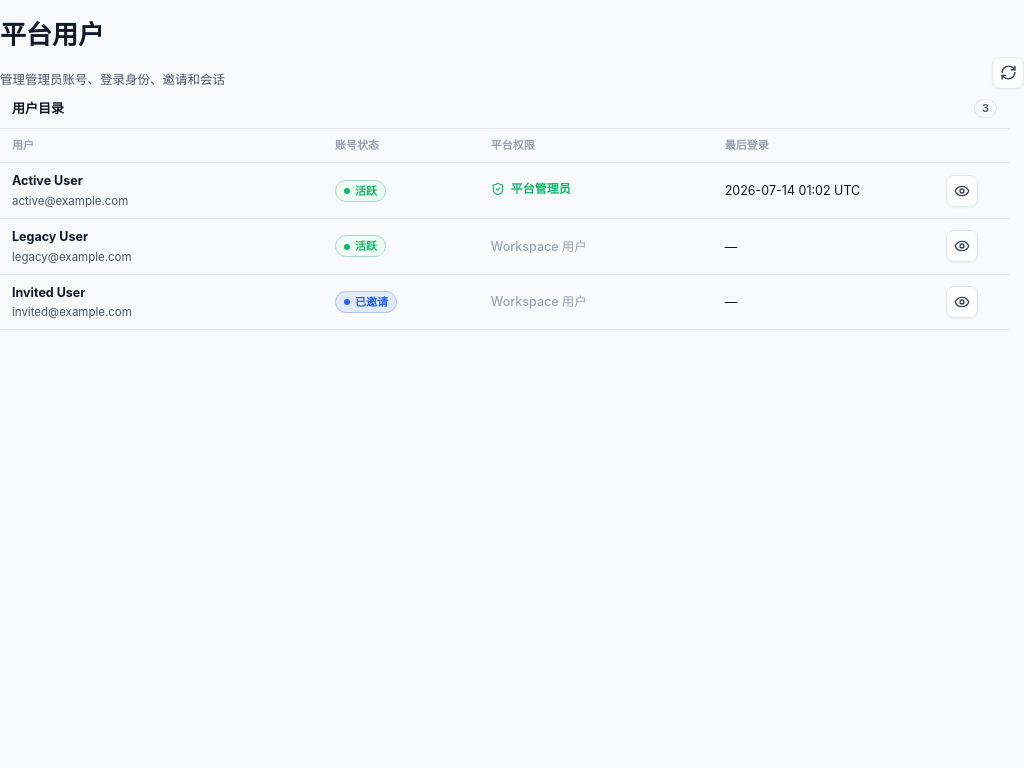
Test: AdminUsersPage › shows compact user state and platform-scoped identity and invitation detail
The width and height of the screenshot is (1024, 768).
Expected: the heading "平台用户" is shown, left=0, top=19, right=104, bottom=50
Expected: the text "Active User" is shown, left=12, top=174, right=83, bottom=188
Click the button named "查看 Legacy User": click(962, 246) left=946, top=230, right=978, bottom=262
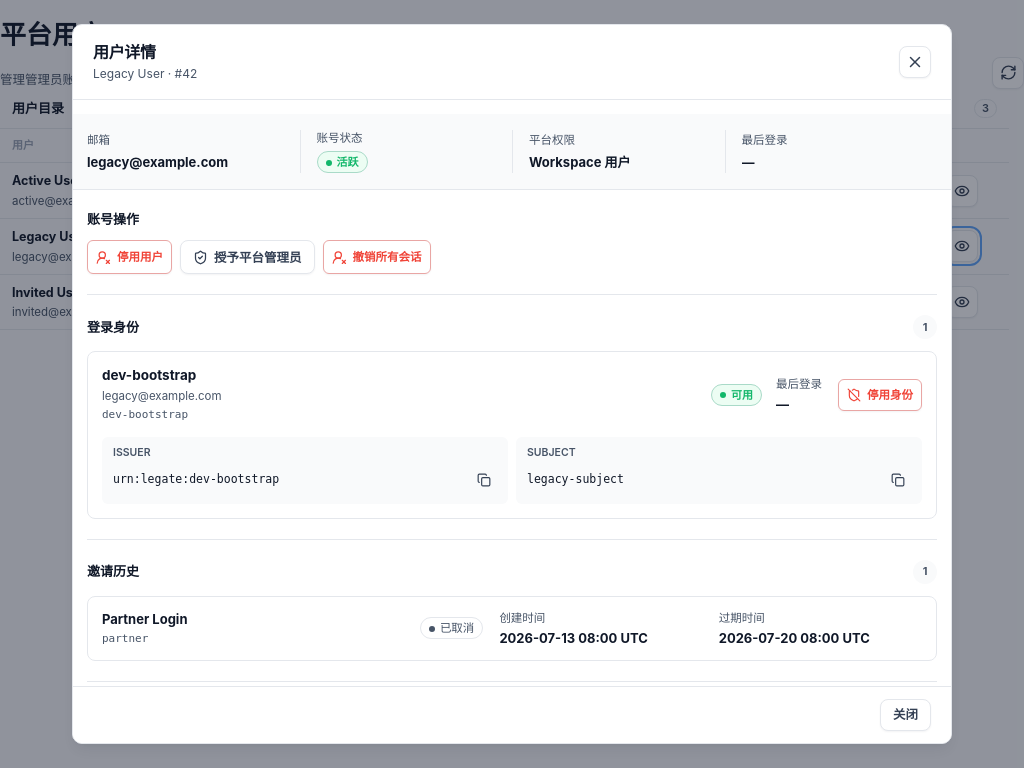
Expected: the text "dev-bootstrap" is shown 2 times, left=102, top=368, right=196, bottom=384; left=102, top=408, right=188, bottom=423
Expected: the text "legacy@example.com" is shown 2 times, left=87, top=154, right=228, bottom=170; left=102, top=389, right=222, bottom=403
Expected: the text "urn:legate:dev-bootstrap" is shown, left=113, top=472, right=279, bottom=486
Click the button "关闭": click(906, 715) left=880, top=699, right=931, bottom=731
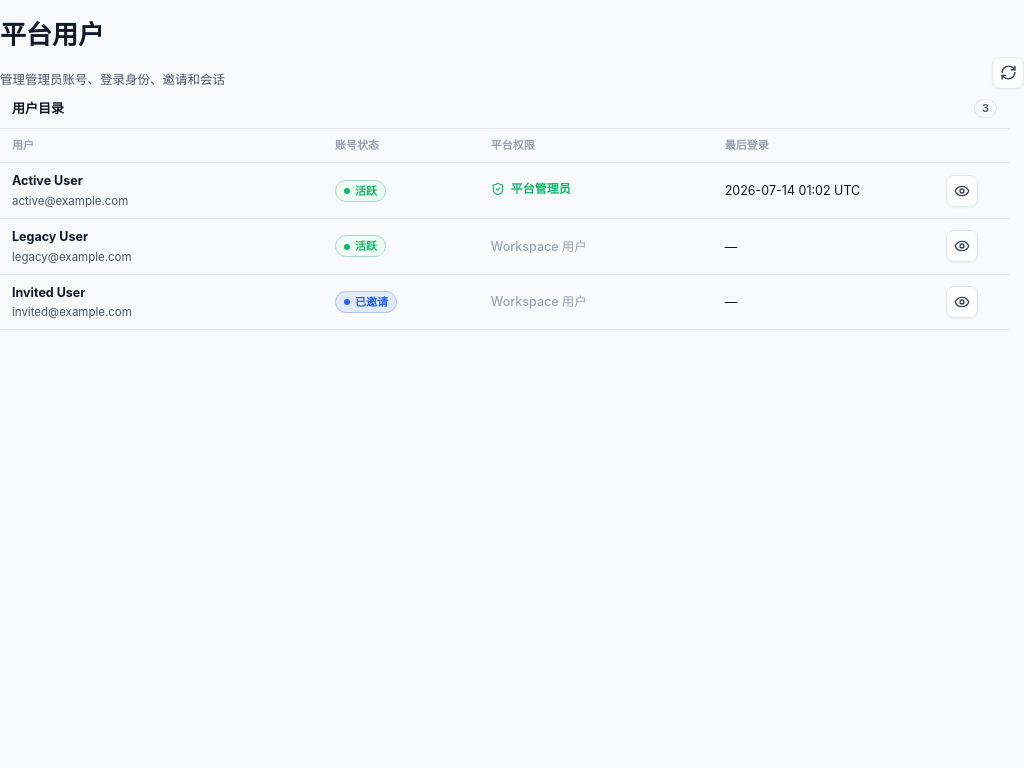
Click the button named "查看 Invited User": click(962, 302) left=946, top=286, right=978, bottom=318
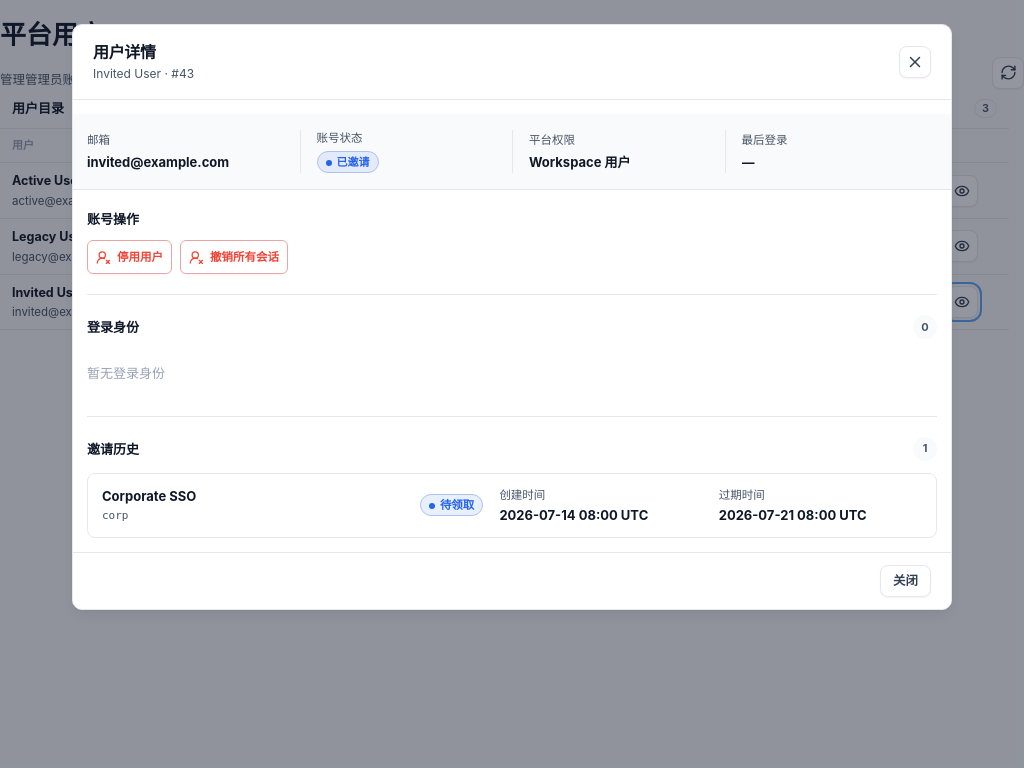
Expected: the text "Corporate SSO" is shown, left=102, top=488, right=196, bottom=504
Expected: the text "待领取" is shown, left=420, top=494, right=483, bottom=516
Expected: the text "2026-07-21 08:00 UTC" is shown, left=719, top=507, right=867, bottom=523
